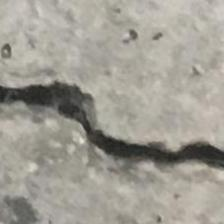Crack: (0, 67, 224, 194)
